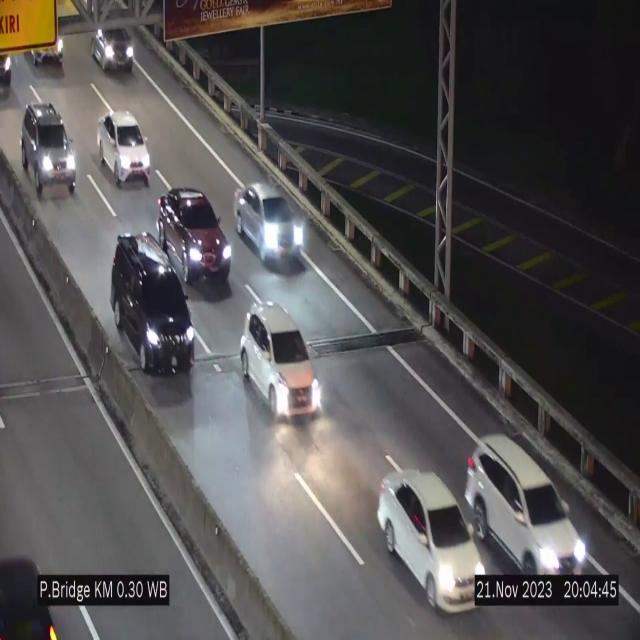Car: (466, 434, 589, 574), (378, 472, 488, 612), (110, 231, 198, 377), (240, 306, 322, 417), (157, 187, 233, 286), (235, 182, 308, 268), (20, 104, 81, 197), (97, 112, 151, 186)
